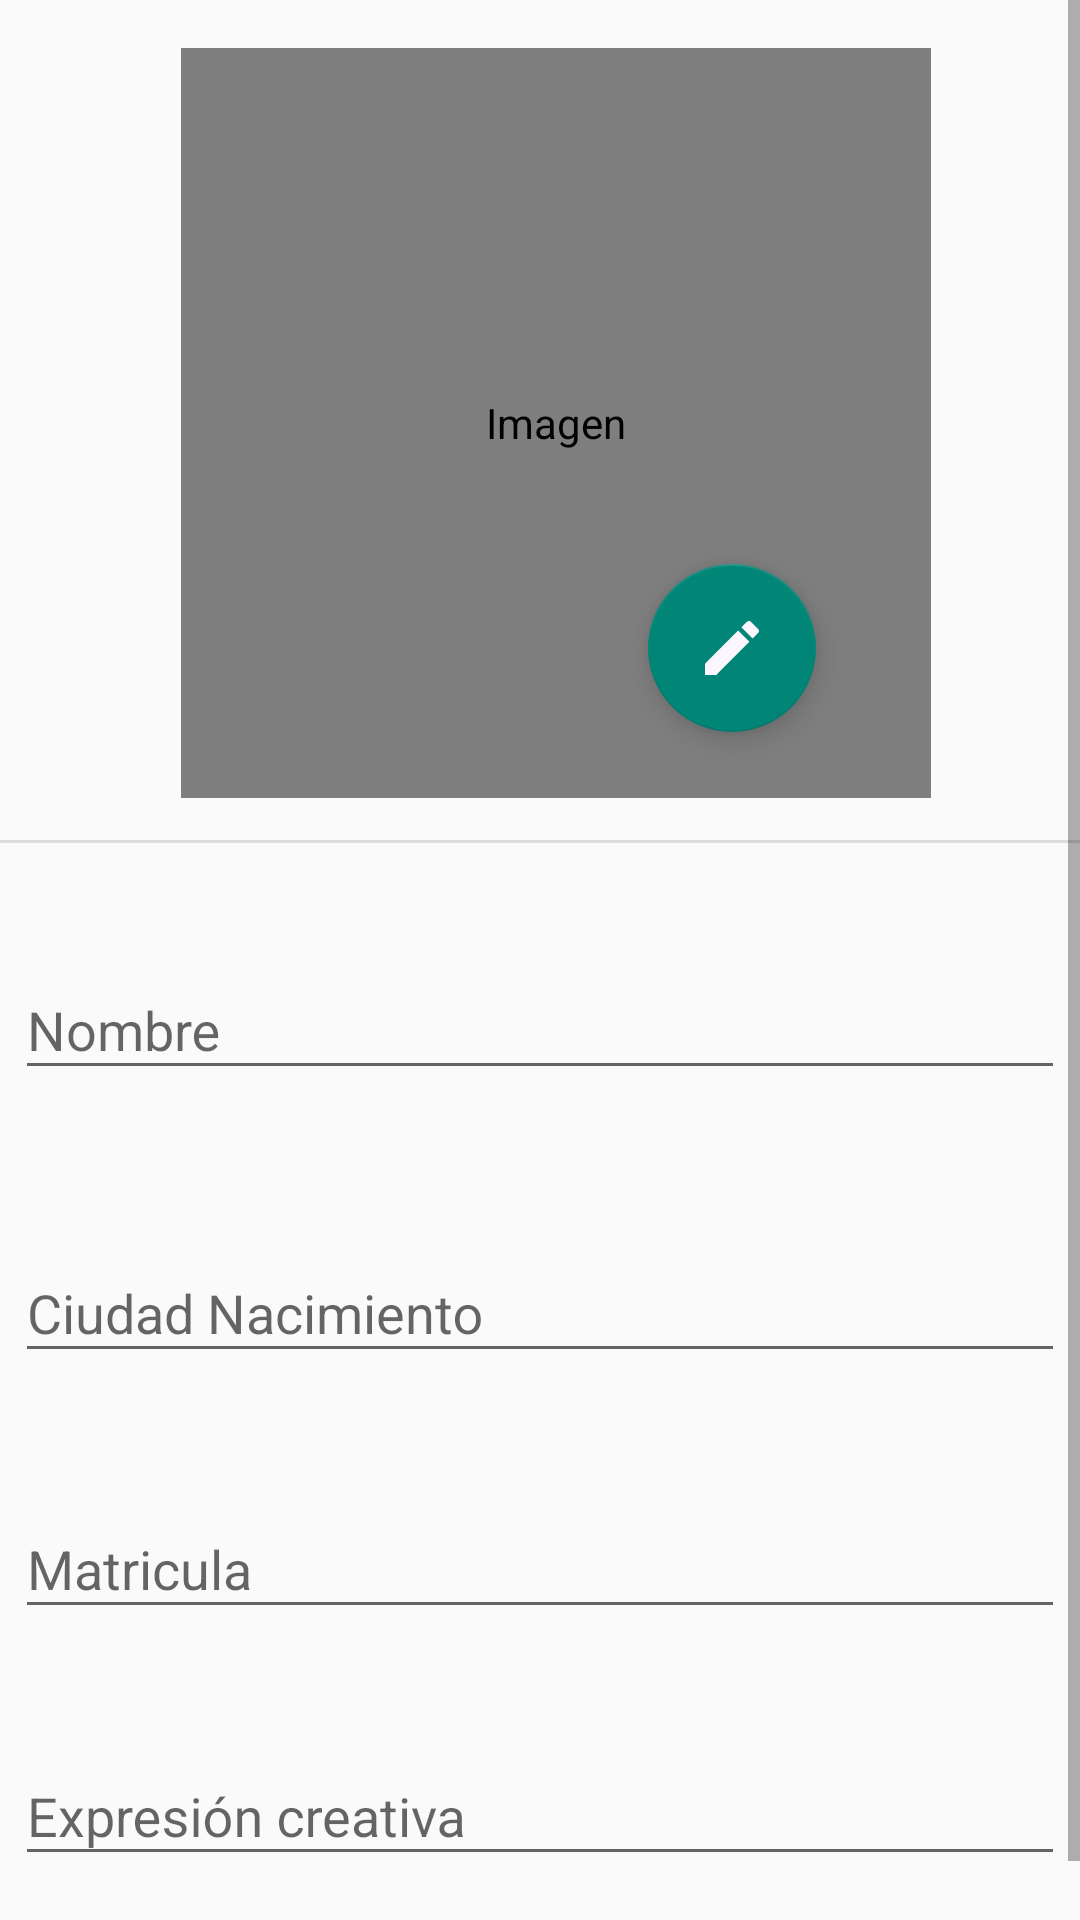

Locate icon controls on the screen. Image size 1080w x 1920h, boxes as (x1, y1, x2, y2).
edit: (648, 564, 816, 732)
